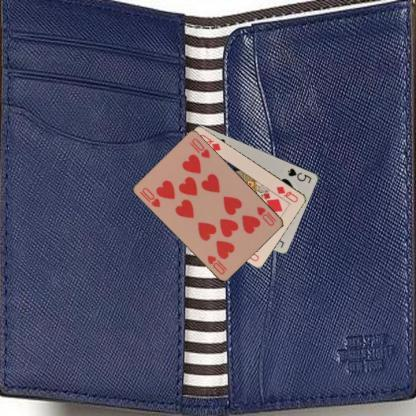10h: (137, 184, 162, 208), (254, 204, 278, 227)
5s: (286, 166, 312, 184)
Qd: (274, 184, 299, 204)
